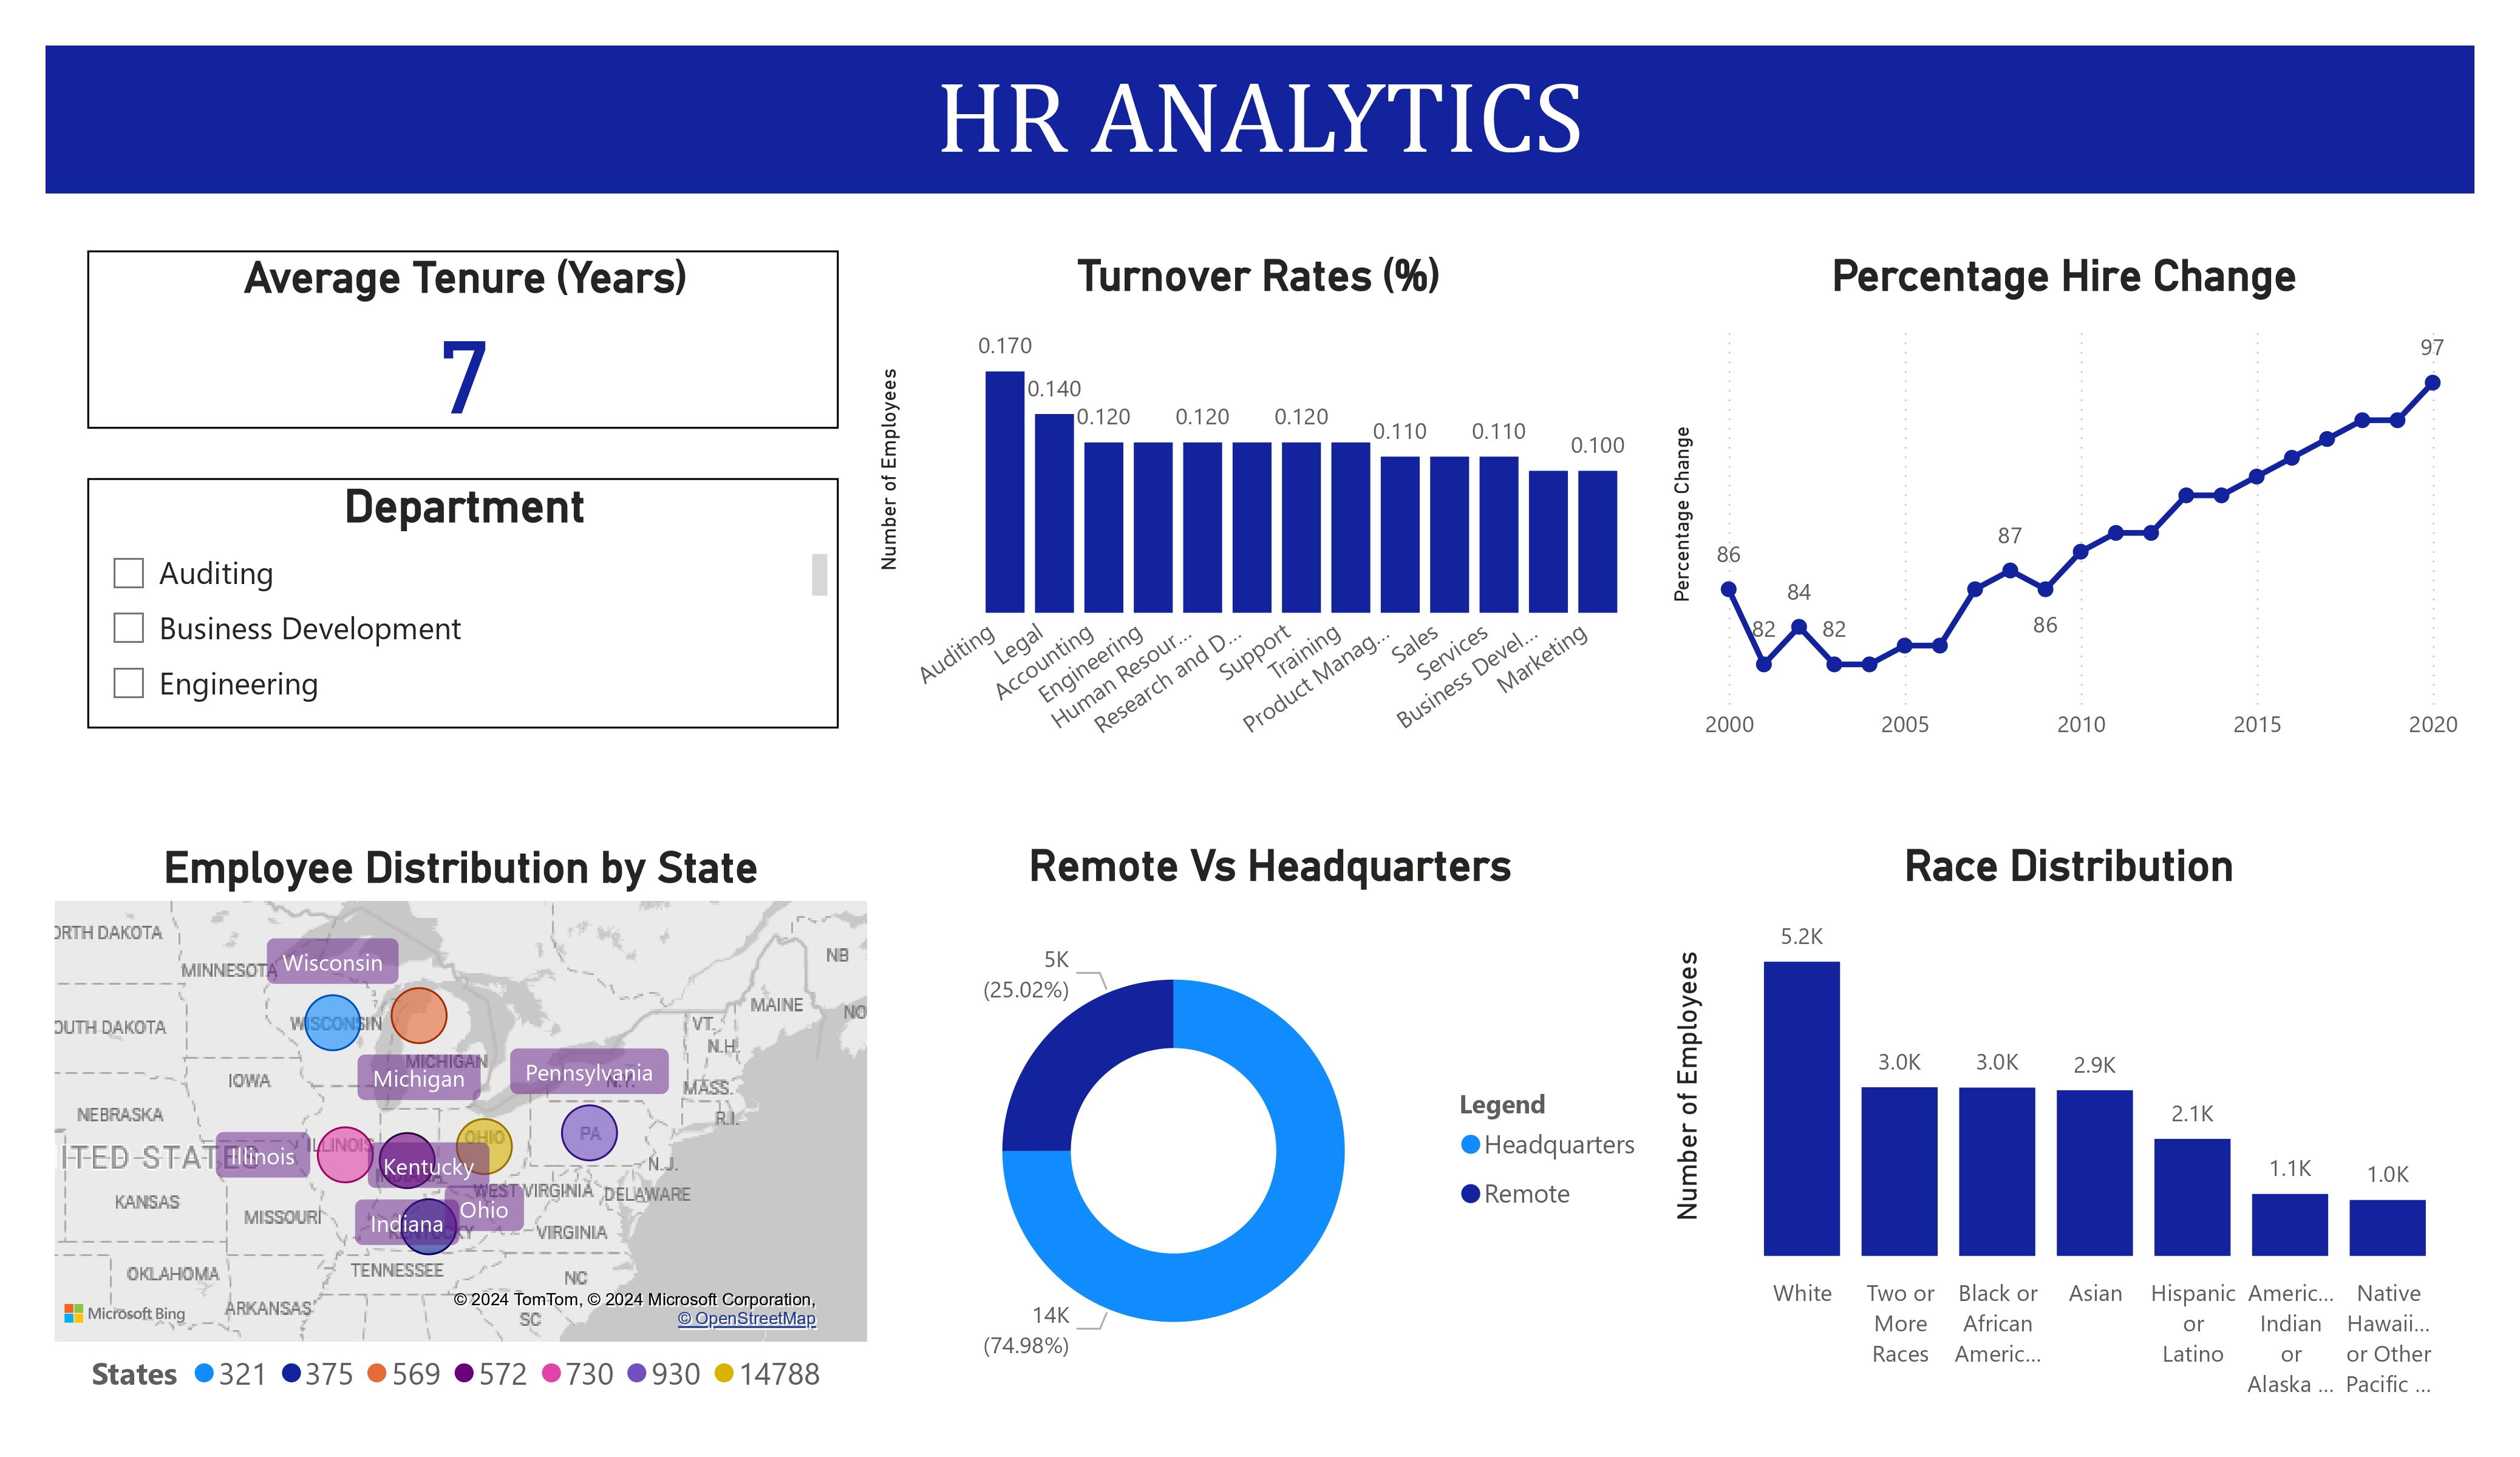

Layout of this report page (visuals, bound fields, positions):
{"tool":"powerbi","page":{"name":"Key Metrics","canvas":[1280,720],"ordinal":0},"visuals":[{"type":"textbox","box":[0,0,1280,78],"z":0},{"type":"map","title":"Employee Distribution by State","fields":{"Category":["state distribution.location_state"],"Series":["state distribution.count"]},"box":[0,420,438,300],"z":1000},{"type":"donutChart","title":"Remote Vs Headquarters","fields":{"Y":["Sum(remote vs headquarters.count)"],"Category":["remote vs headquarters.location"]},"box":[438.8,419.4,412.9,301.2],"z":2000},{"type":"lineChart","title":"Percentage Hire Change","fields":{"Y":["Sum(percentage hire change.percent_hire_change)"],"Category":["percentage hire change.hire_yr"]},"box":[852,108,424,268],"z":3000},{"type":"columnChart","title":"Turnover Rates (%)","fields":{"Y":["Sum(turnover rates.turnover_rate)"],"Category":["turnover rates.department"]},"box":[434,108,410,268],"z":4000},{"type":"columnChart","title":"Race Distribution","fields":{"Y":["Sum(race distribution.count)"],"Category":["race distribution.race"]},"box":[851.7,419.4,429.1,301.2],"z":5000},{"type":"card","title":"Average Tenure (Years)","fields":{"Values":["Sum(average tenure.tenure)"]},"box":[22,108,396,94],"z":6000},{"type":"slicer","title":"Department","fields":{"Values":["turnover rates.department"]},"box":[22,228,396,132],"z":7000}]}

Visuals, with their boxes on the page's 1280x720 design canvas (x1, y1, x2, y2). These are canvas units, not pixel positions in the 2520x1457 screenshot, which may show the page scaled, cropped or inside an application window:
textbox: region(0, 0, 1280, 78)
"Employee Distribution by State" map: region(0, 420, 438, 720)
"Remote Vs Headquarters" donutChart: region(439, 419, 852, 721)
"Percentage Hire Change" lineChart: region(852, 108, 1276, 376)
"Turnover Rates (%)" columnChart: region(434, 108, 844, 376)
"Race Distribution" columnChart: region(852, 419, 1281, 721)
"Average Tenure (Years)" card: region(22, 108, 418, 202)
"Department" slicer: region(22, 228, 418, 360)
